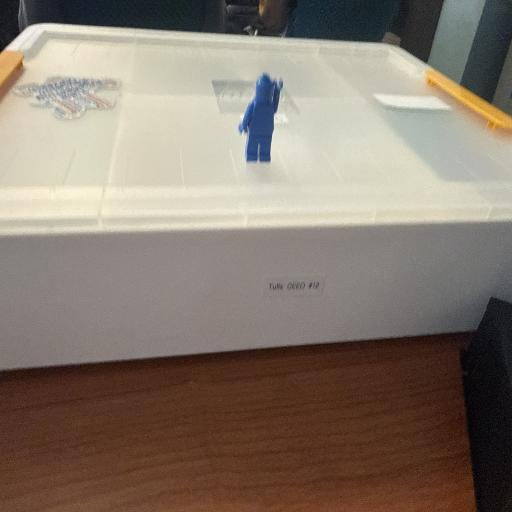Minifig: (239, 73, 283, 161)
